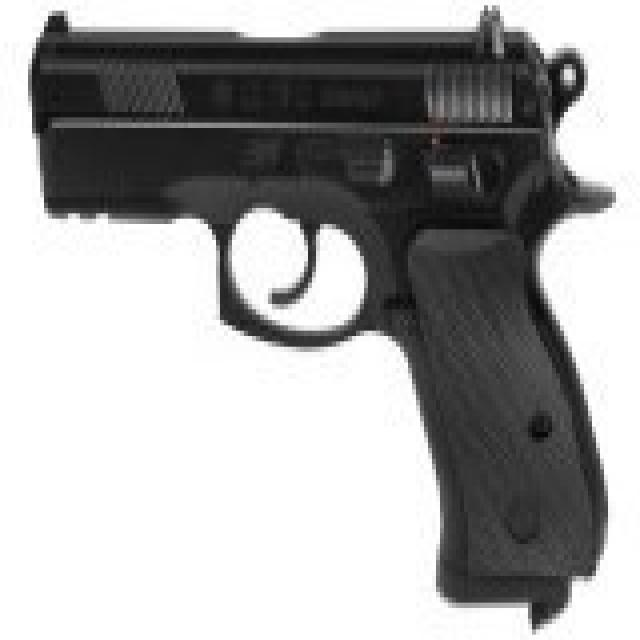Gun: (24, 5, 615, 591)
